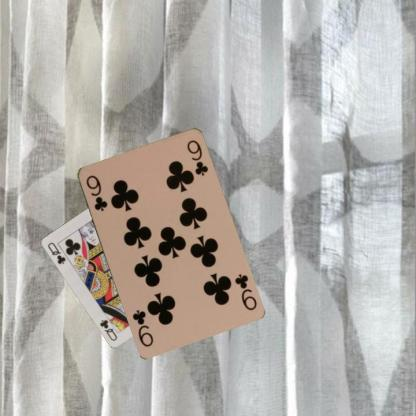9c: (232, 270, 258, 312), (83, 172, 109, 213)
Qc: (45, 240, 67, 266)
